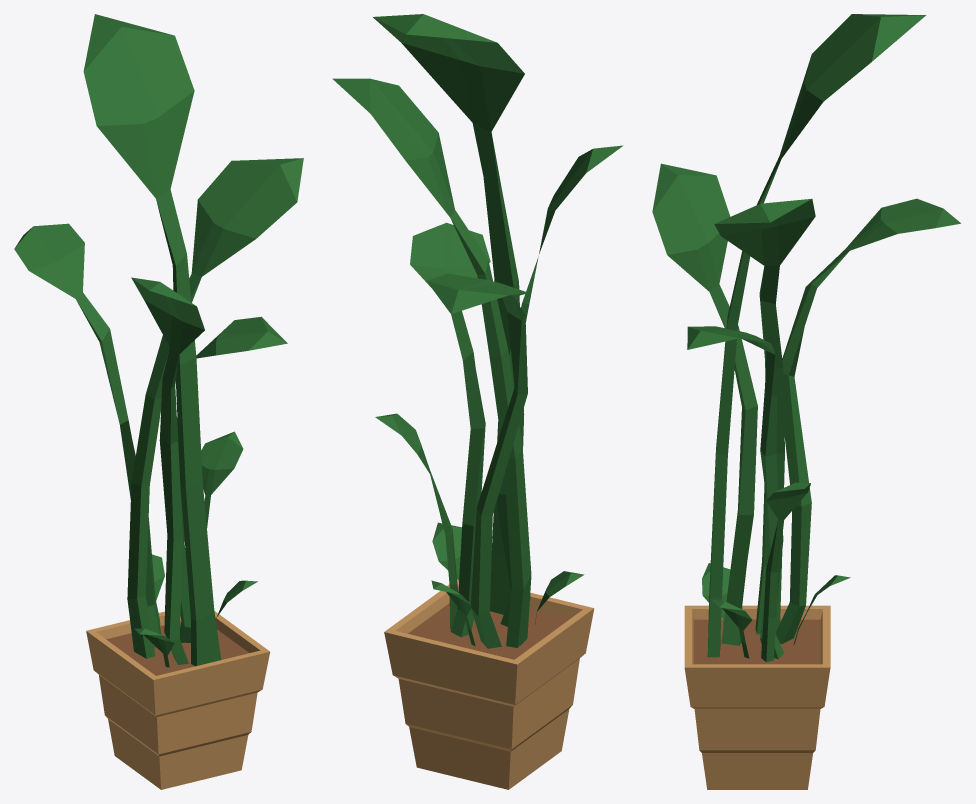
Rendered from furniture-pot-medium-rectangle-plant.glb.
3 views of the same model, side by side, from view 1: azimuth 30°, elevation 25°; view 2: azimuth 150°, elevation 25°; view 3: azimuth 270°, elevation 25° (orthographic). The views are drawn at different scales.
Visible parts, largest first — view 1: pot-medium-rectangle-plant; view 2: pot-medium-rectangle-plant; view 3: pot-medium-rectangle-plant.
Boxes of the visible parts, box(x1,y1,x2,y2) form: pot-medium-rectangle-plant: box(14, 14, 303, 789); pot-medium-rectangle-plant: box(332, 14, 623, 789); pot-medium-rectangle-plant: box(652, 14, 960, 789).
Bounding box in the file's own units: 0.5179 × 1.53 × 0.5718.
